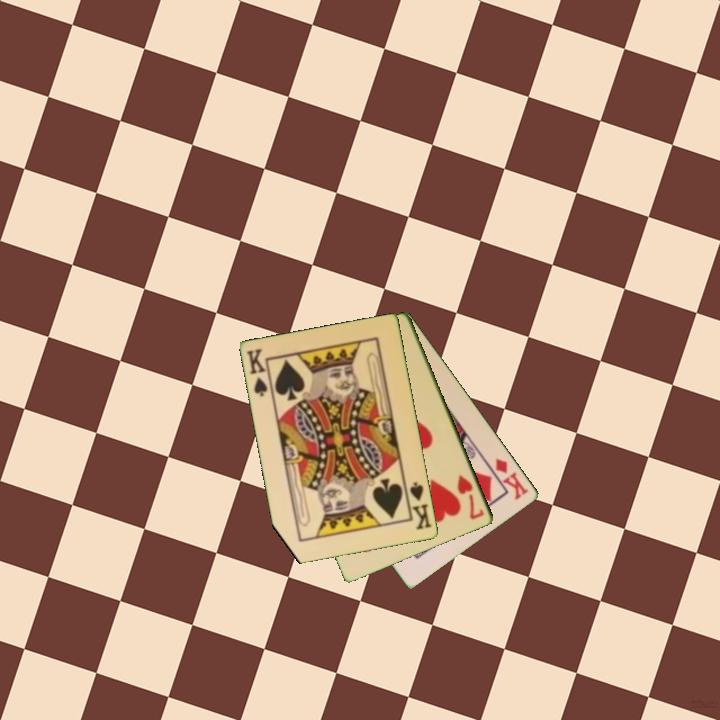7h: (454, 471, 487, 523)
Kd: (492, 454, 532, 503)
Ks: (402, 479, 435, 533), (243, 345, 275, 400)
